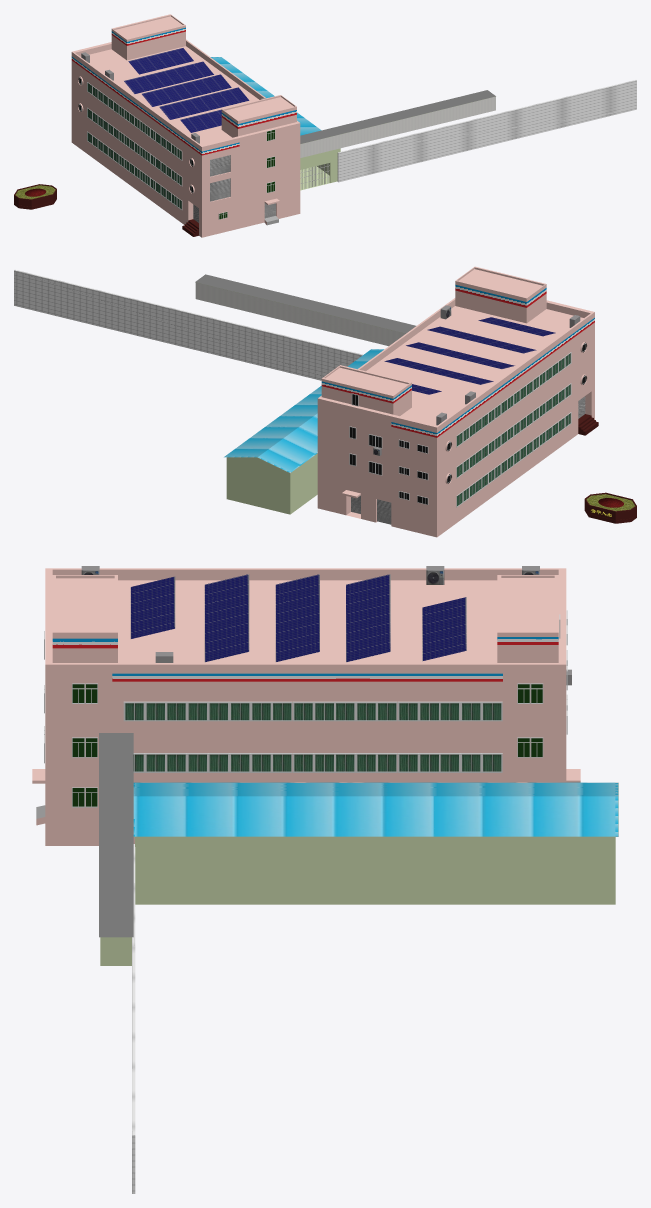
Rendered from Element_building.fbx.
3 renders of one model, top to bottom at view 1: azimuth 30°, elevation 25°; view 2: azimuth 150°, elevation 25°; view 3: azimuth 270°, elevation 25°, orthographic. The views are drawn at different scales.
Visible parts, largest first — view 1: 電阻片大樓本體, 外牆, 空中走廊, 廢料倉, 立方体.412; view 2: 電阻片大樓本體, 外牆, 廢料倉, 空中走廊, 立方体.412; view 3: 電阻片大樓本體, 廢料倉, 空中走廊, 外牆.
Boxes of the visible parts, <box> form: 電阻片大樓本體: <box>71,14,300,237</box>; 外牆: <box>337,80,636,182</box>; 空中走廊: <box>300,90,495,157</box>; 廢料倉: <box>210,57,340,190</box>; 立方体.412: <box>14,184,56,209</box>; 電阻片大樓本體: <box>317,266,598,537</box>; 外牆: <box>14,269,363,380</box>; 廢料倉: <box>224,349,383,514</box>; 空中走廊: <box>195,274,415,346</box>; 立方体.412: <box>584,492,636,523</box>; 電阻片大樓本體: <box>32,566,580,845</box>; 廢料倉: <box>133,782,618,904</box>; 空中走廊: <box>99,733,133,965</box>; 外牆: <box>132,844,135,1193</box>.
Size of the model in its own units: 7720 by 1399 by 3463.
Materials: 23 (10 with a texture image).
